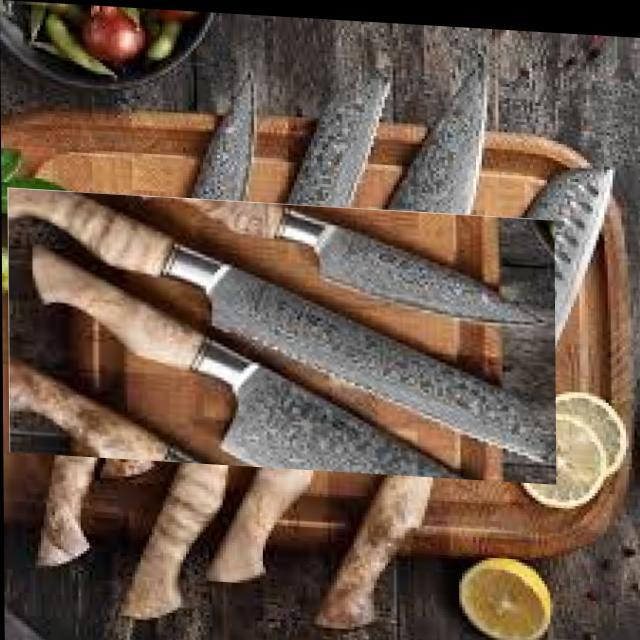knife: (16, 187, 559, 464), (313, 162, 620, 632), (30, 245, 455, 478)
